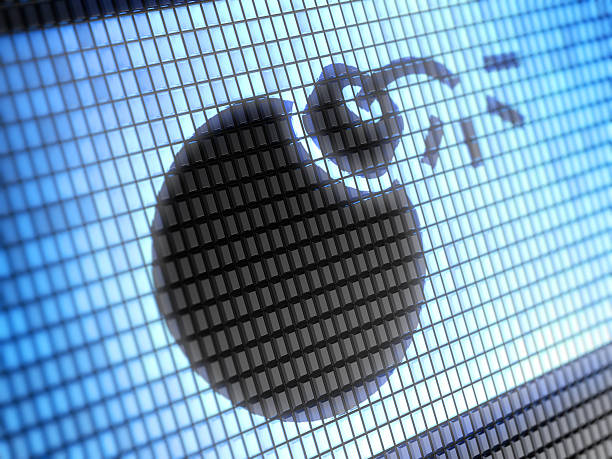e1: (152, 58, 420, 418)
